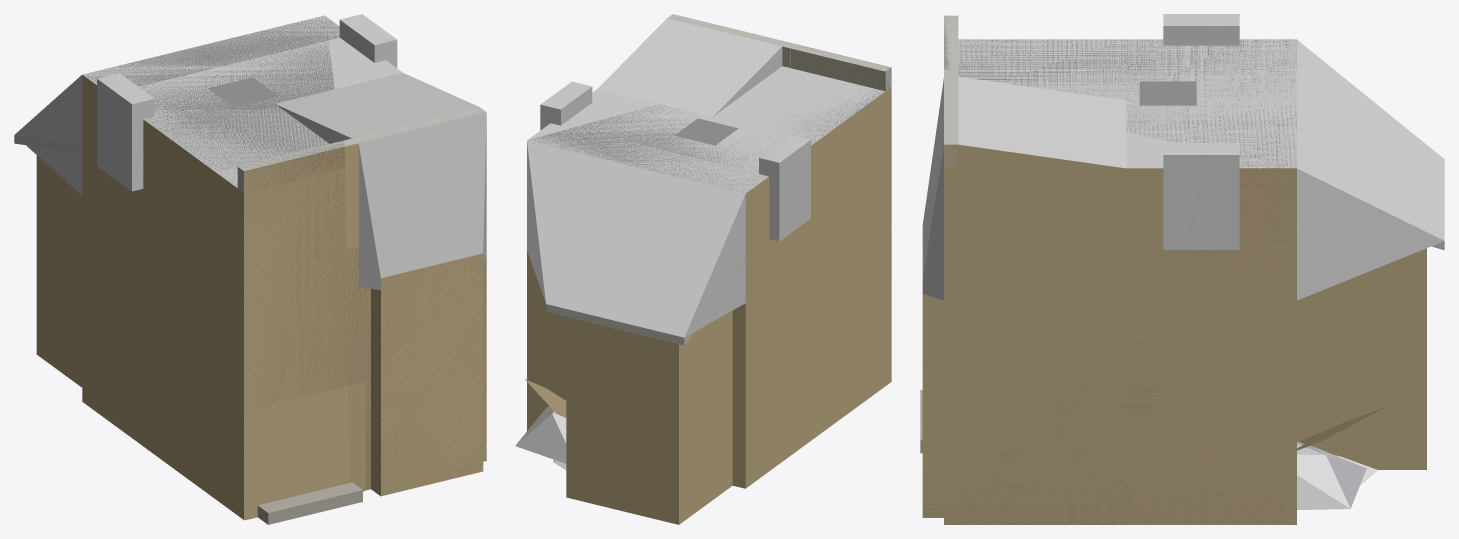
File: bld_rowhouse_a.glb
3 renders of one model, left to right at view 1: azimuth 30°, elevation 25°; view 2: azimuth 150°, elevation 25°; view 3: azimuth 270°, elevation 25°, orthographic. The views are drawn at different scales.
Parts seen in each view (by area): view 1: damaged, chunk_06, chunk_07, chunk_00, chunk_01, intact, chunk_04, chunk_08, chunk_02, chunk_10, chunk_09, chunk_11; view 2: damaged, chunk_04, chunk_10, chunk_06, intact, chunk_11, chunk_00, chunk_07, chunk_02, chunk_05, chunk_08, rubble (+1 smaller); view 3: chunk_01, chunk_07, damaged, chunk_05, chunk_11, chunk_03, intact, chunk_09, chunk_10, chunk_06, chunk_08, rubble.
Part boxes in pixels (left/top/right/bottom): damaged: left=14, top=16, right=486, bottom=524; chunk_06: left=160, top=105, right=358, bottom=314; chunk_07: left=275, top=72, right=486, bottom=290; chunk_00: left=160, top=253, right=358, bottom=519; chunk_01: left=358, top=256, right=486, bottom=496; intact: left=86, top=14, right=486, bottom=519; chunk_04: left=36, top=156, right=108, bottom=420; chunk_08: left=97, top=66, right=272, bottom=252; chunk_02: left=109, top=216, right=160, bottom=457; chunk_10: left=14, top=57, right=222, bottom=214; chunk_09: left=223, top=14, right=401, bottom=103; chunk_11: left=214, top=15, right=339, bottom=65; damaged: left=527, top=45, right=891, bottom=524; chunk_04: left=588, top=286, right=769, bottom=524; chunk_10: left=581, top=151, right=769, bottom=337; chunk_06: left=713, top=42, right=891, bottom=251; intact: left=527, top=15, right=889, bottom=191; chunk_11: left=527, top=125, right=665, bottom=312; chunk_00: left=816, top=196, right=891, bottom=436; chunk_07: left=597, top=14, right=787, bottom=116; chunk_02: left=769, top=252, right=815, bottom=470; chunk_05: left=527, top=252, right=588, bottom=502; chunk_08: left=668, top=117, right=815, bottom=284; rubble: left=515, top=379, right=566, bottom=469; chunk_01: left=922, top=294, right=1126, bottom=524; chunk_07: left=922, top=76, right=1126, bottom=300; damaged: left=920, top=14, right=1444, bottom=524; chunk_05: left=1239, top=249, right=1426, bottom=524; chunk_11: left=1239, top=100, right=1444, bottom=300; chunk_03: left=1126, top=300, right=1238, bottom=524; intact: left=944, top=15, right=1296, bottom=524; chunk_09: left=1126, top=100, right=1238, bottom=300; chunk_10: left=1239, top=39, right=1444, bottom=219; chunk_06: left=944, top=15, right=1126, bottom=100; chunk_08: left=1126, top=14, right=1238, bottom=100; rubble: left=1297, top=407, right=1385, bottom=509.
Bounding box in the file's own units: 7.01 × 8.8 × 11.
